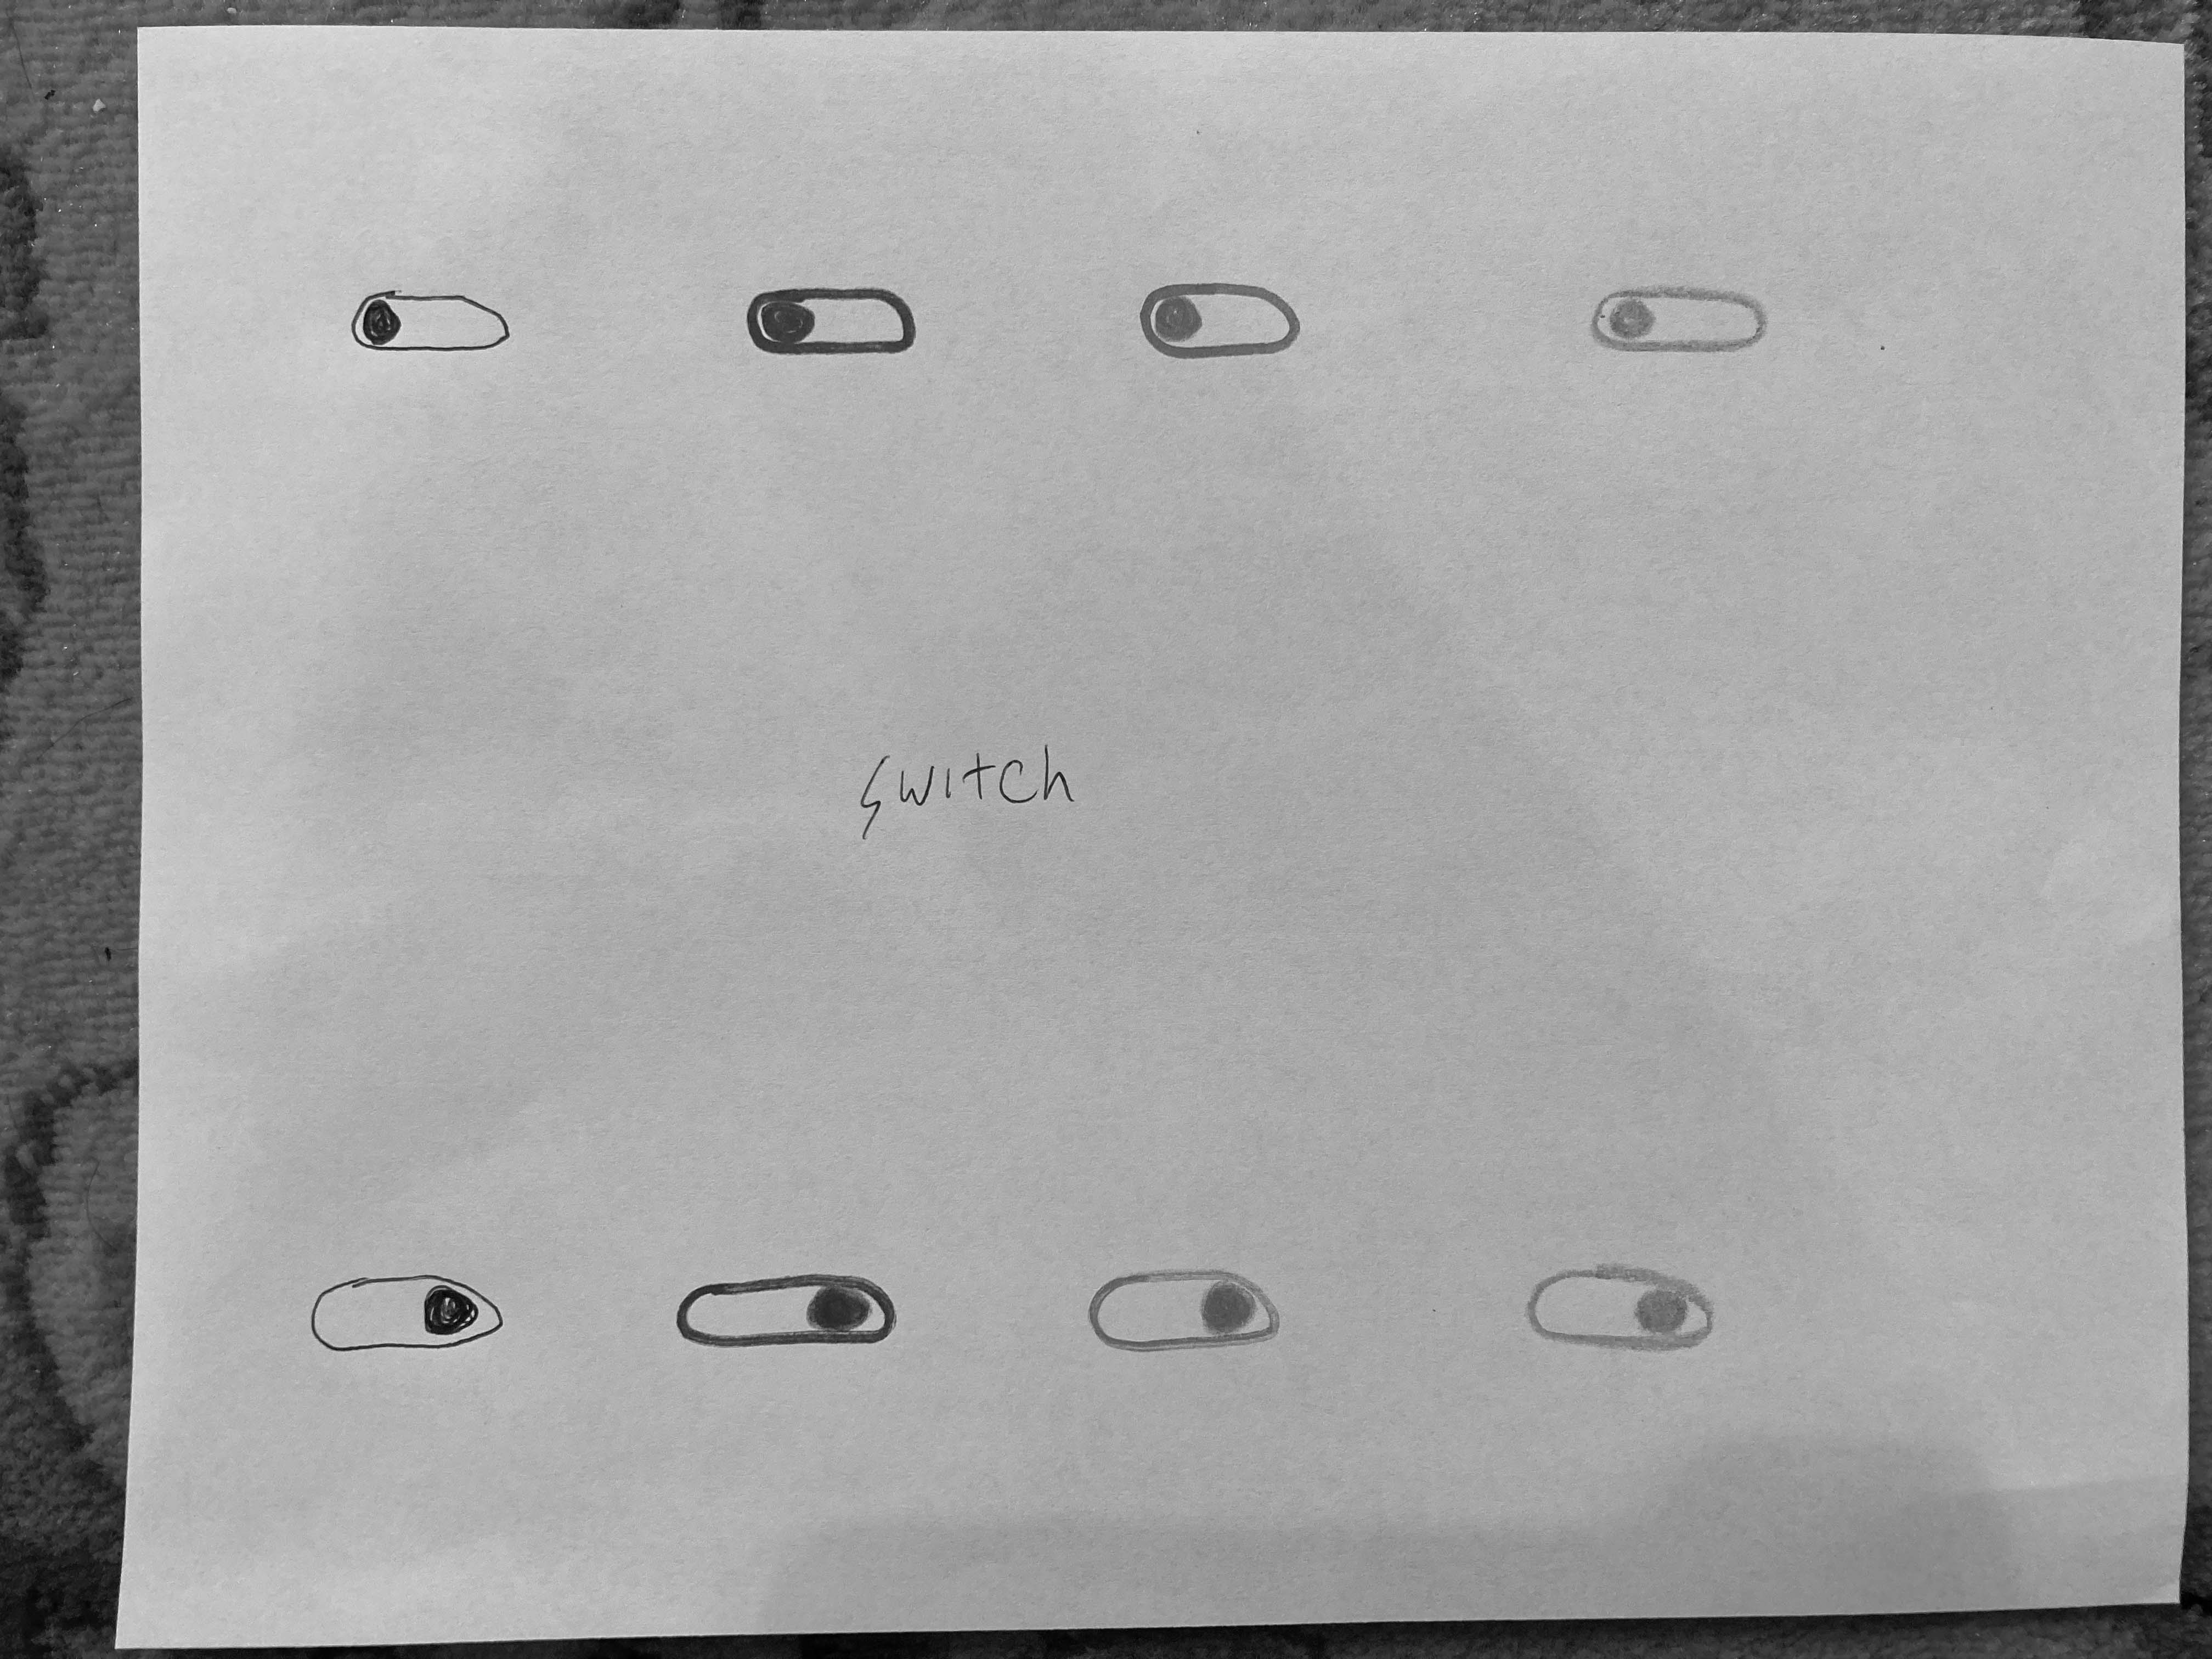switch: (671, 1262, 902, 1358), (308, 1269, 514, 1359), (1524, 1263, 1719, 1358), (1087, 1265, 1285, 1358), (742, 272, 925, 366), (1137, 274, 1306, 369), (1585, 282, 1773, 362), (347, 275, 514, 364)
